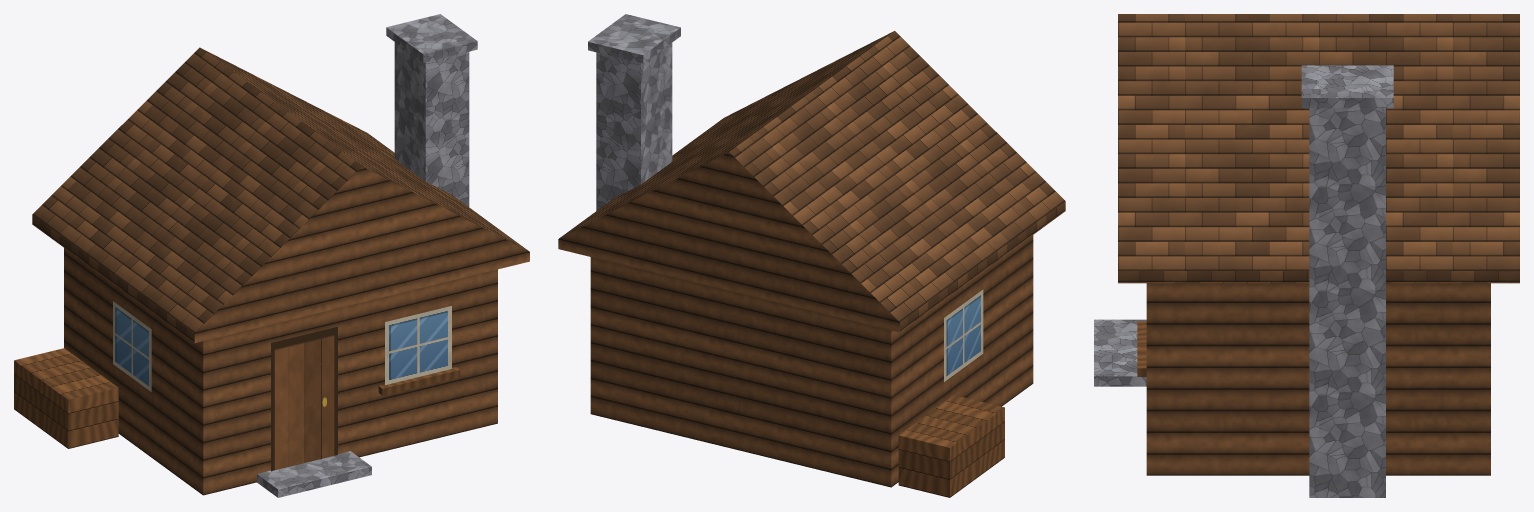
The model's file is House_Cabin.glb.
3 renders of one model, left to right at view 1: azimuth 30°, elevation 25°; view 2: azimuth 150°, elevation 25°; view 3: azimuth 270°, elevation 25°, orthographic. The views are drawn at different scales.
Parts seen in each view (by area): view 1: House_Cabin; view 2: House_Cabin; view 3: House_Cabin.
Boxes of the visible parts, bbox=[...] form: House_Cabin: bbox=[14, 14, 529, 497]; House_Cabin: bbox=[558, 14, 1065, 497]; House_Cabin: bbox=[1094, 14, 1519, 497].
Bounding box in the file's own units: 5.83 × 4.65 × 4.45.
Materials: 6 (6 with a texture image).
